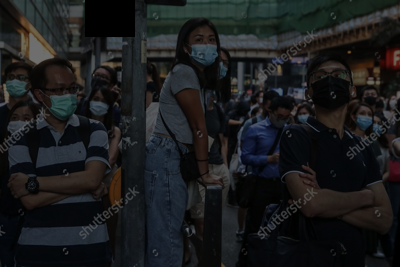with_mask: (310, 65, 352, 110), (46, 80, 80, 121), (189, 33, 218, 65), (8, 113, 34, 136), (6, 74, 30, 97), (90, 95, 110, 117), (355, 110, 374, 132), (92, 72, 112, 91), (272, 112, 293, 129), (217, 56, 230, 80), (365, 92, 380, 107), (298, 109, 312, 124), (373, 120, 385, 137)
